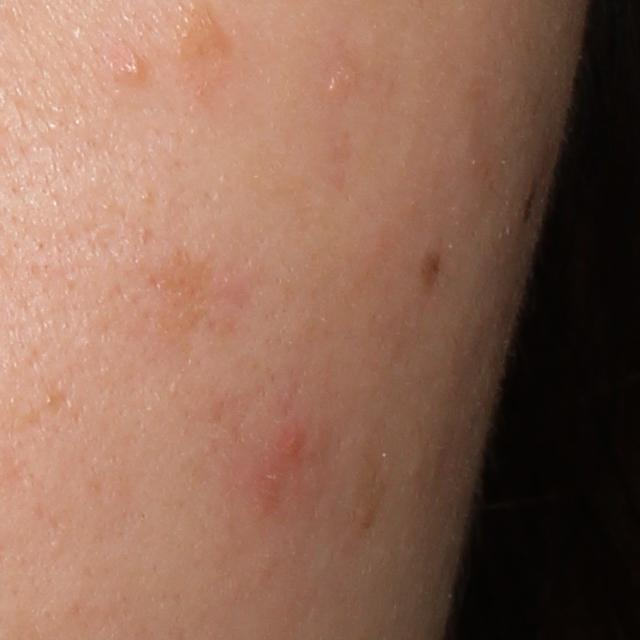comedo: (120, 57, 148, 82)
nevus: (422, 250, 439, 292)
papule: (265, 427, 304, 465)
